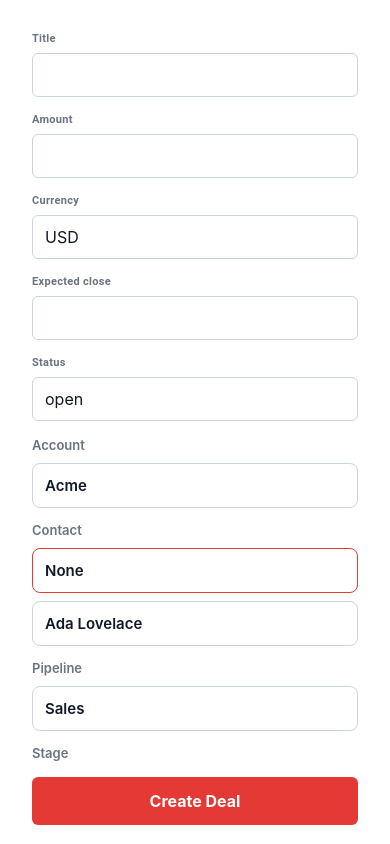
Scenario: CRM deal create form › validates required deal title before selector validation
Click the element with test id "crm-deal-form-submit". click: (195, 801)
box: [32, 777, 358, 825]
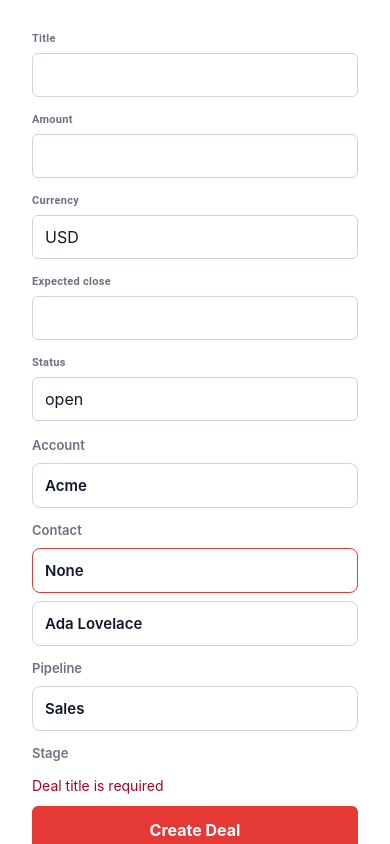
Now the text "Deal title is required" is shown, box [32, 777, 164, 794]
